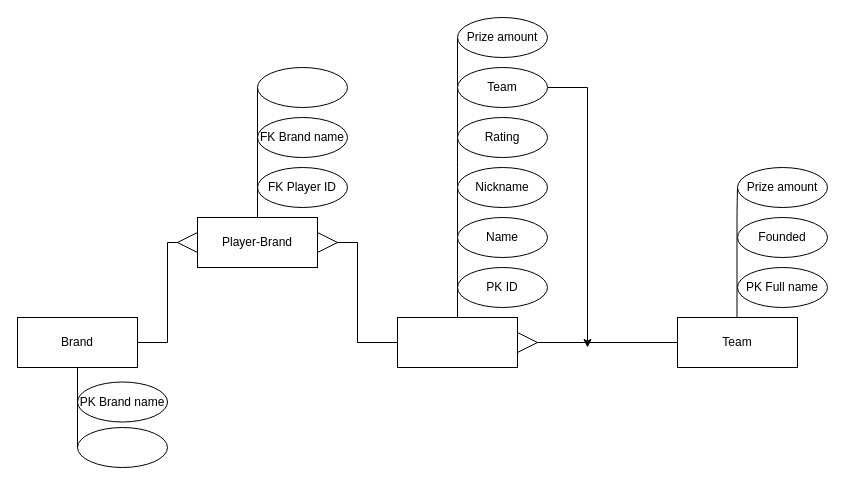
Some shapes in this 845 by 485 pixel diagram are drawn without their labels. Here are the shapes that lost their labels. From the top down, the centre of each, then its label:
At pixel 302 87: "Contract amount".
At pixel 457 342: "Player".
At pixel 122 447: "Players".
